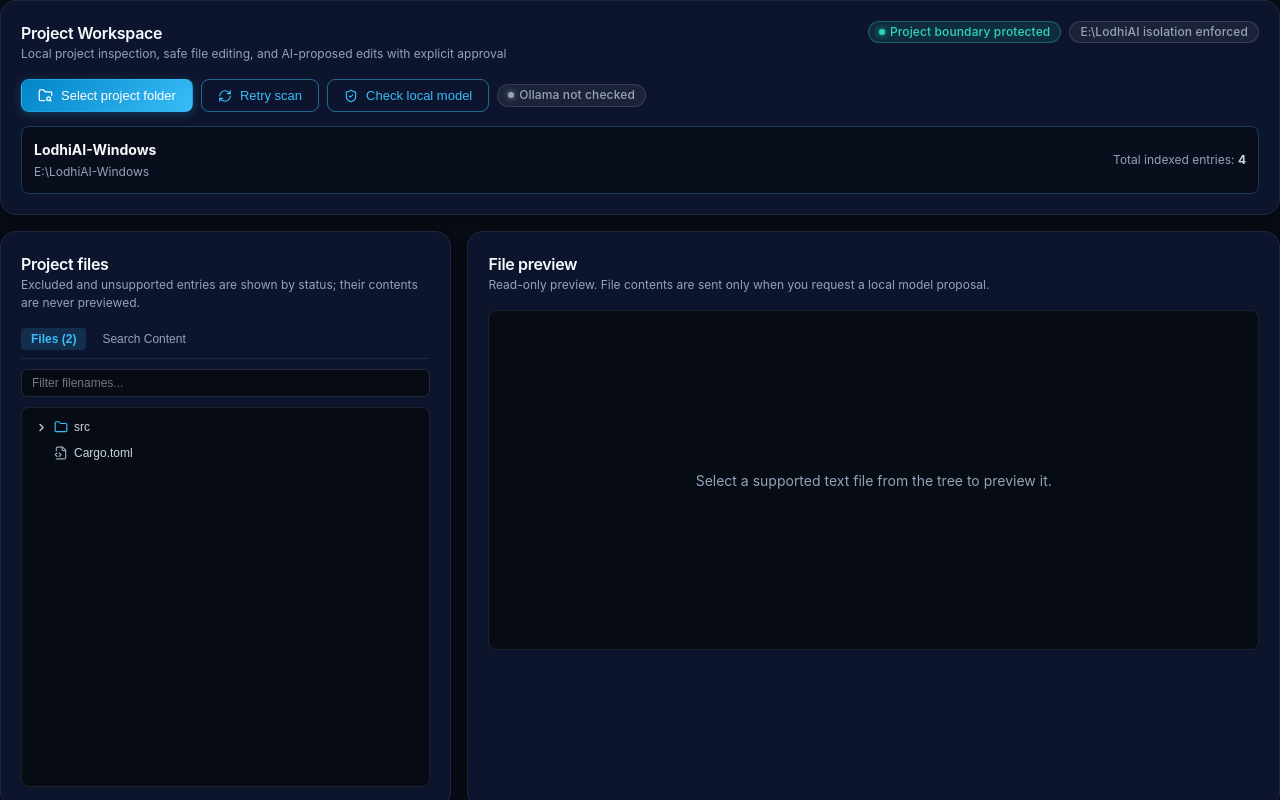
Test case: Phase 2 — Project Workspace & Safe File Operations › expands folder and displays nested files
The width and height of the screenshot is (1280, 800).
Click the list item "src" at (42, 427), box [28, 414, 423, 440]
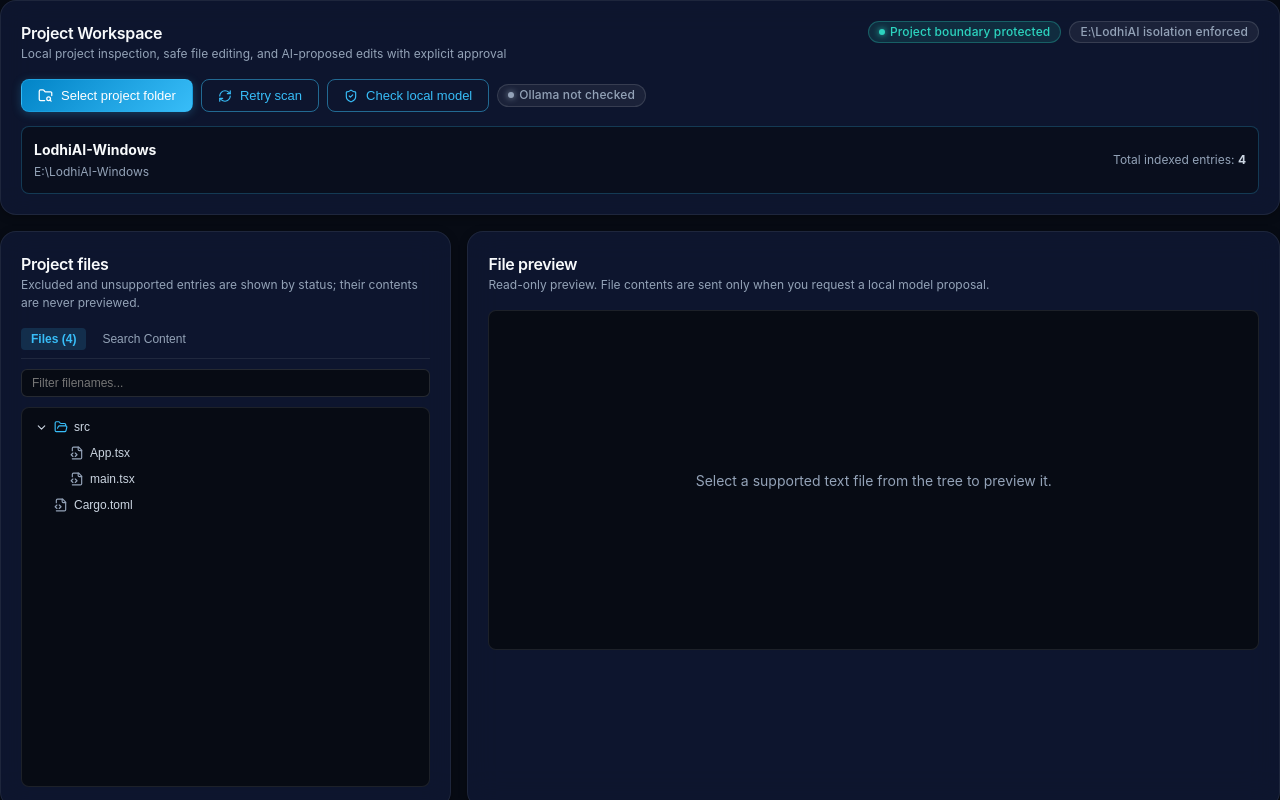
expect the text "App.tsx" is shown: met, box [90, 446, 130, 460]
expect the text "main.tsx" is shown: met, box [90, 472, 135, 486]
